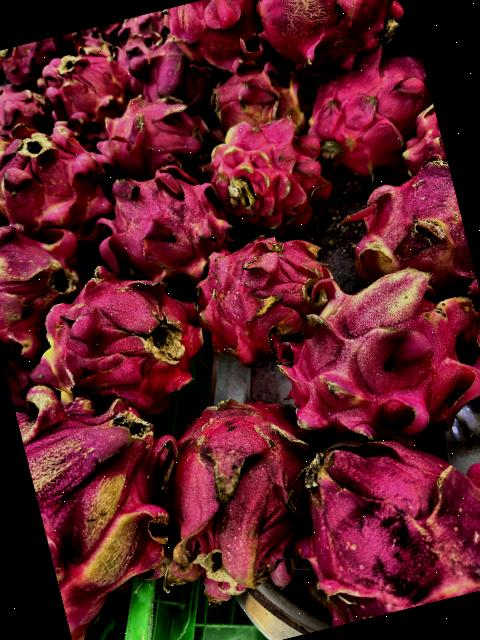buah-naga-belum-matang: (263, 246, 480, 462), (11, 361, 193, 604), (288, 398, 480, 626), (19, 260, 219, 426), (328, 154, 478, 310), (195, 106, 338, 238), (0, 200, 98, 354), (203, 54, 319, 144), (388, 100, 448, 177), (0, 124, 24, 230)
buah-naga-matang: (154, 374, 339, 599), (184, 219, 346, 367), (87, 150, 244, 298), (0, 104, 125, 252), (300, 41, 442, 171), (246, 0, 418, 81), (93, 80, 217, 184), (157, 0, 280, 82), (36, 37, 141, 132), (125, 28, 219, 108), (0, 75, 53, 141), (0, 39, 53, 82)
